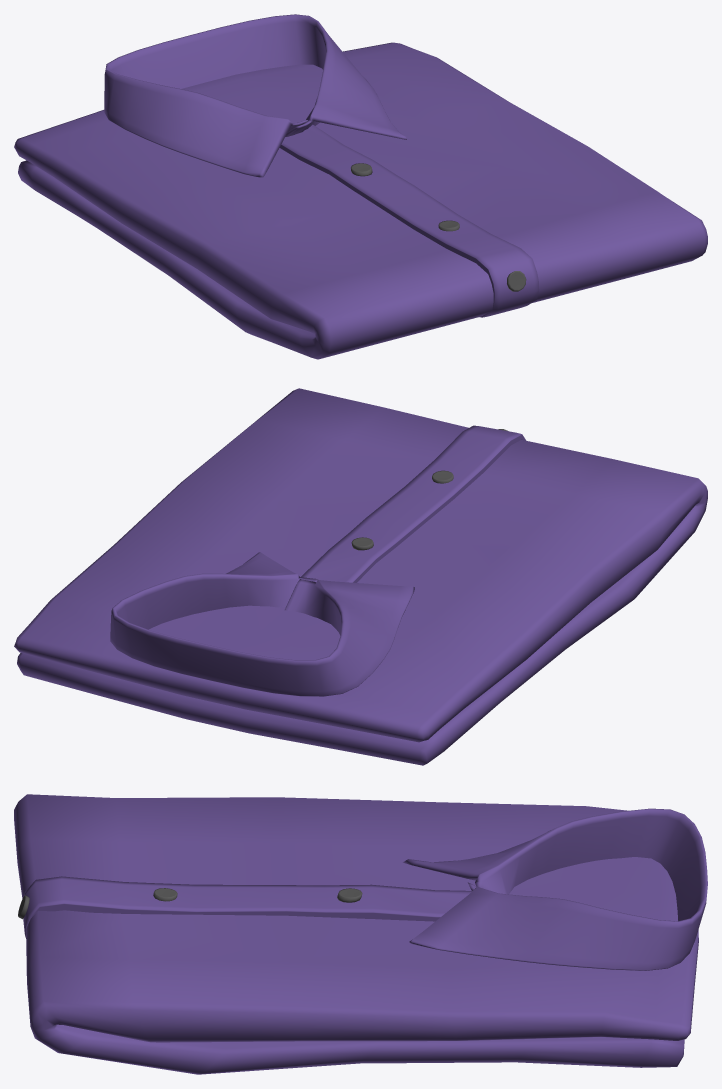
Rendered from Folded_Shirt03.fbx.
The picture shows the model from 3 angles, top to bottom: view 1: azimuth 30°, elevation 25°; view 2: azimuth 150°, elevation 25°; view 3: azimuth 270°, elevation 25°; orthographic projection. The views are drawn at different scales.
Visible parts, largest first — view 1: Folded_Shirt03; view 2: Folded_Shirt03; view 3: Folded_Shirt03.
Part boxes in pixels (x1,y1,x2,y2): Folded_Shirt03: (14,14,707,359); Folded_Shirt03: (14,388,707,765); Folded_Shirt03: (14,794,707,1074).
Size of the model in its own units: 25.48 by 5.51 by 33.45.
